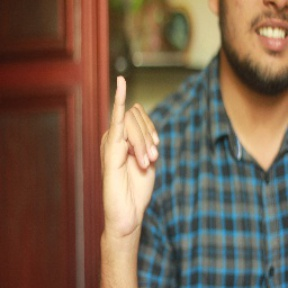I: (98, 72, 164, 222)
